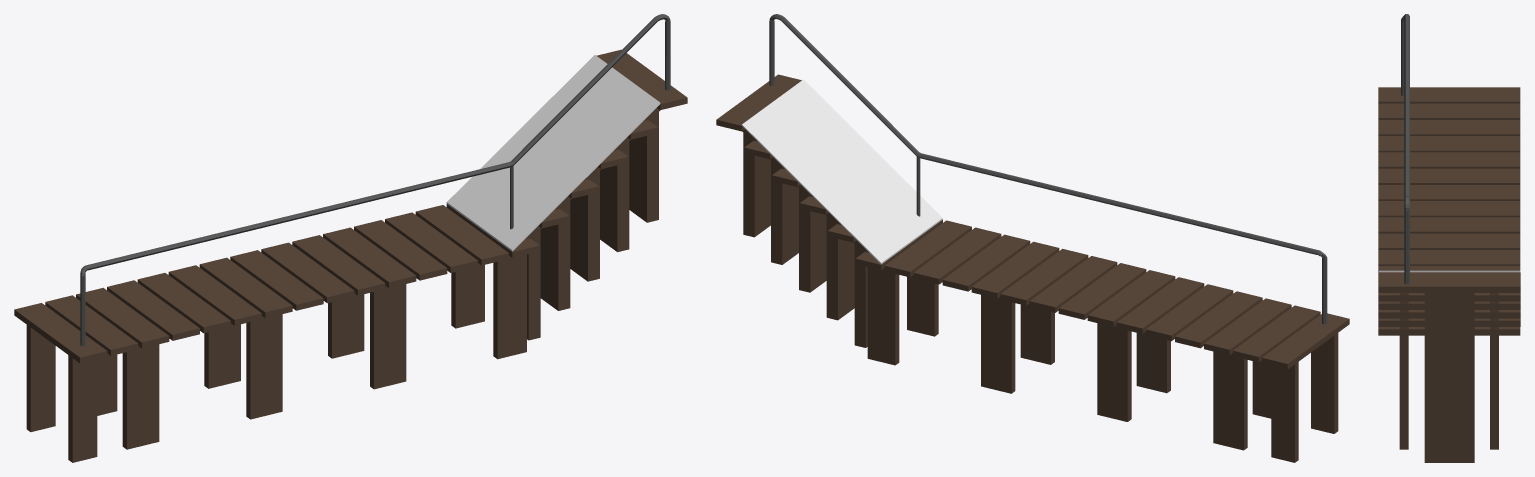
The model's file is prichal (2).fbx.
3 renders of one model, left to right at view 1: azimuth 30°, elevation 25°; view 2: azimuth 150°, elevation 25°; view 3: azimuth 270°, elevation 25°, orthographic. The views are drawn at different scales.
Visible parts, largest first — view 1: prichal, lestnicachestno; view 2: prichal, lestnicachestno; view 3: prichal, lestnicachestno.
Boxes of the visible parts, box(x1,y1,x2,y2) form: prichal: box(14, 14, 687, 462); lestnicachestno: box(446, 55, 660, 251); prichal: box(716, 14, 1349, 462); lestnicachestno: box(742, 79, 942, 264); prichal: box(1378, 14, 1520, 462); lestnicachestno: box(1379, 270, 1520, 272).
Bounding box in the file's own units: 3889 × 1842 × 730.
Materials: 1 (1 with a texture image).
